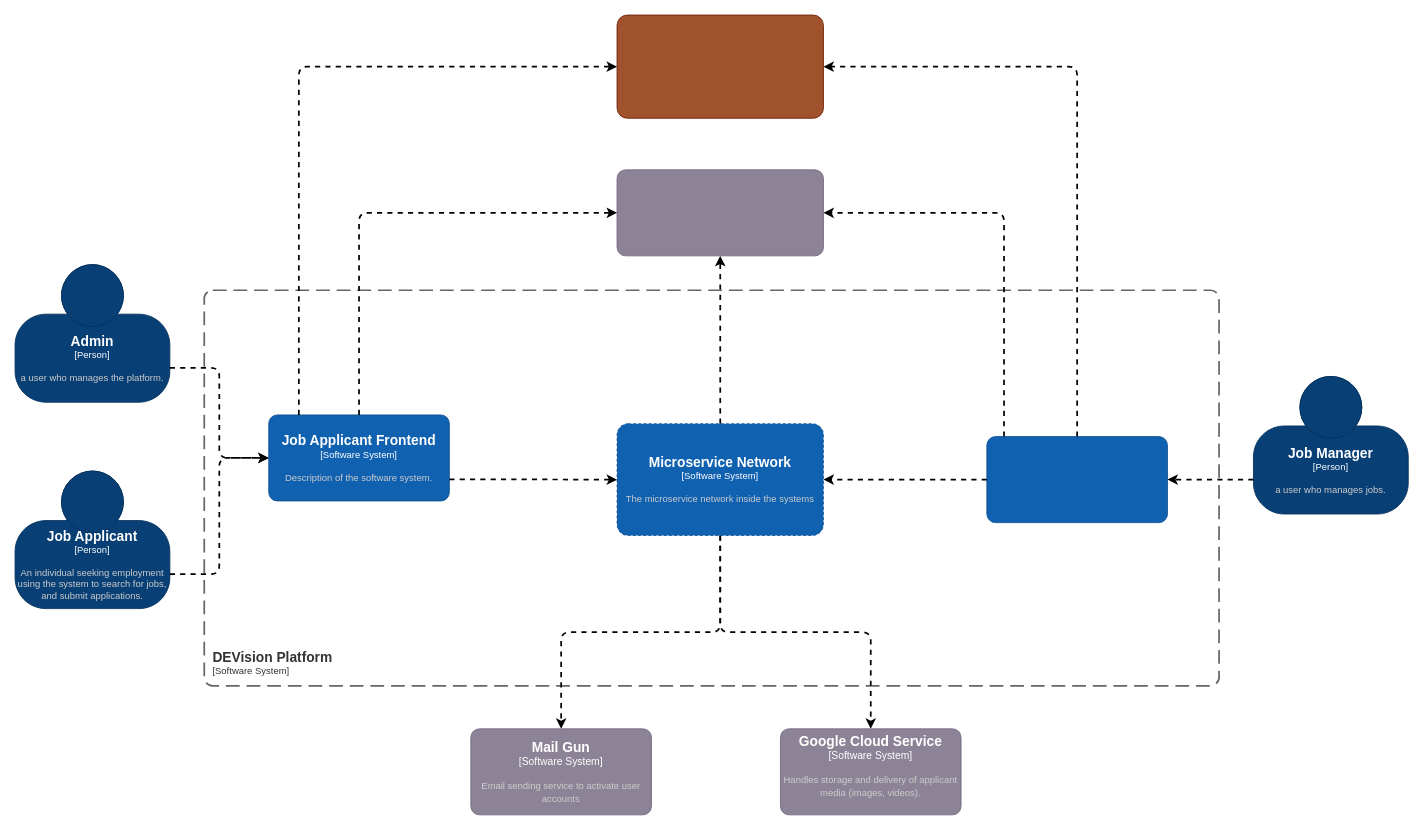
This 1423x830 diagram has some shape labels left out. The shapes that lost their labels are listed below. From the top down, each one's centre as x and y in pixels, then its label:
(x=719, y=66): bamboo-ui [Software System] Shared UI library
(x=719, y=212): Google Authentication [Software System] Google authentication system
(x=1076, y=479): Job Manager Frontend [Software System] Description of the software system.
